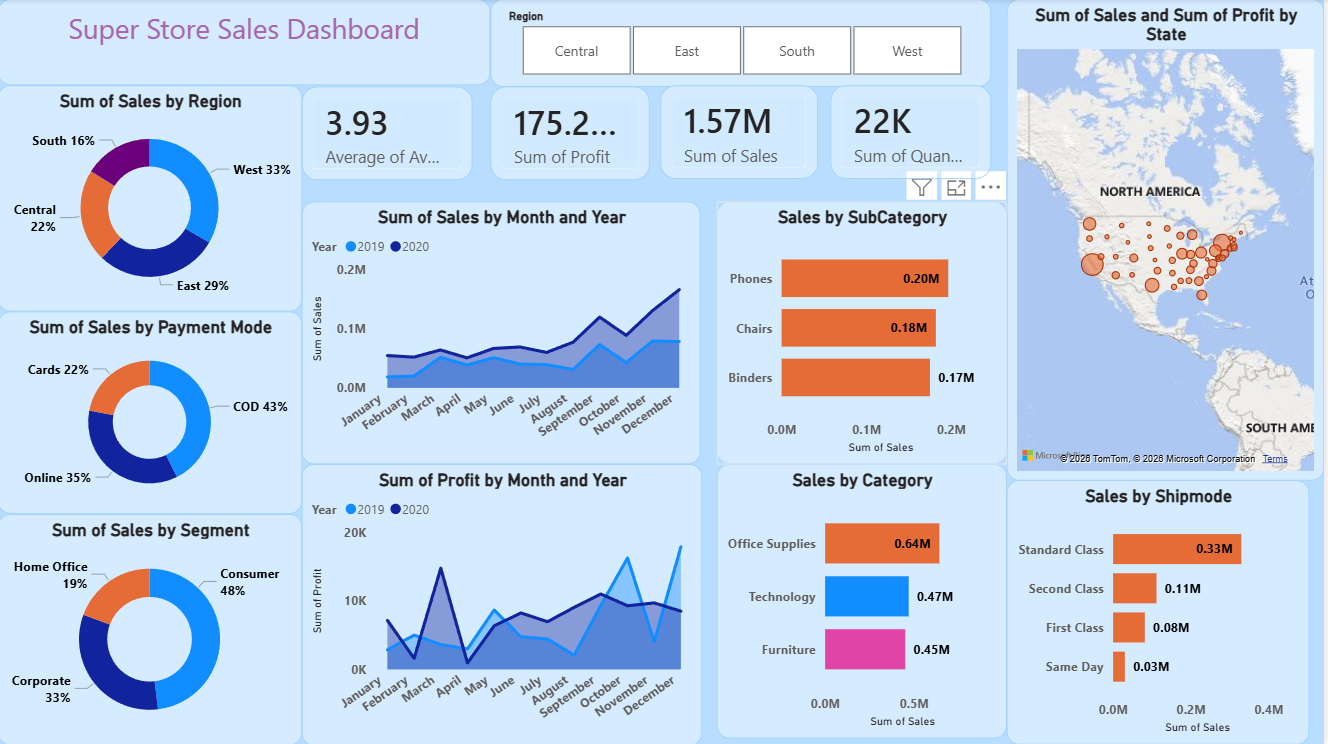

The page's visual inventory and layout, read from the dashboard file:
{"tool":"powerbi","page":{"name":"Page 1","canvas":[1280,720],"ordinal":0},"visuals":[{"type":"clusteredBarChart","title":"Sales by Category","fields":{"Category":["Sheet1.Category"],"Y":["Sum(Sheet1.Sales)"]},"box":[693.3,448.3,280,265],"z":0},{"type":"clusteredBarChart","title":"Sales by SubCategory","fields":{"Category":["Sheet1.Sub-Category"],"Y":["Sum(Sheet1.Sales)"]},"box":[693.3,195,280,253.3],"z":1000},{"type":"clusteredBarChart","title":"Sales by Shipmode","fields":{"Category":["Sheet1.Ship Mode"],"Y":["Sum(Sheet1.Sales)"]},"box":[973.3,465,291.7,255],"z":2000},{"type":"areaChart","fields":{"Category":["Sheet1.Order Date.Variation.Date Hierarchy.Month","Sheet1.Order Date.Variation.Date Hierarchy.Day"],"Series":["Sheet1.Order Date.Variation.Date Hierarchy.Year"],"Y":["Sum(Sheet1.Profit)"]},"box":[293.3,448.3,386.7,271.7],"z":3000},{"type":"areaChart","fields":{"Y":["Sum(Sheet1.Sales)"],"Category":["Sheet1.Order Date.Variation.Date Hierarchy.Month","Sheet1.Order Date.Variation.Date Hierarchy.Day"],"Series":["Sheet1.Order Date.Variation.Date Hierarchy.Year"]},"box":[293.3,195,385,253.3],"z":4000},{"type":"map","fields":{"Category":["Sheet1.State"],"Size":["Sum(Sheet1.Sales)"]},"box":[973.3,0,306.7,465],"z":5000},{"type":"donutChart","fields":{"Category":["Sheet1.Segment"],"Y":["Sum(Sheet1.Sales)"]},"box":[0,496.7,293.3,223.3],"z":6000},{"type":"donutChart","fields":{"Y":["Sum(Sheet1.Sales)"],"Category":["Sheet1.Payment Mode"]},"box":[0,301.7,293.3,195],"z":7000},{"type":"slicer","fields":{"Values":["Sheet1.Region"]},"box":[475,0,483.3,85],"z":8000},{"type":"textbox","box":[0,0,475,83.3],"z":9000},{"type":"cardVisual","title":"sales","fields":{"Data":["Sum(Sheet1.Sales)"]},"box":[640,83.3,151.7,90],"z":10000},{"type":"cardVisual","title":"sales","fields":{"Data":["Sum(Sheet1.Quantity)"]},"box":[803.3,83.3,155,90],"z":11000},{"type":"cardVisual","title":"sales","fields":{"Data":["Sum(Sheet1.Profit)"]},"box":[475,85,153.3,90],"z":12000},{"type":"cardVisual","title":"sales","fields":{"Data":["Avg(Sheet1.Avgdelivery)"]},"box":[293.3,85,165,90],"z":13000},{"type":"donutChart","fields":{"Y":["Sum(Sheet1.Sales)"],"Category":["Sheet1.Region"]},"box":[0,83.3,293.3,218.3],"z":14000}]}

Visuals, with their boxes in screenshot pixels (x1, y1, x2, y2), scaled from the page's 1280x720 canvas onto the 1328x744 screenshot:
"Sales by Category" clusteredBarChart: (719, 463, 1010, 737)
"Sales by SubCategory" clusteredBarChart: (719, 202, 1010, 463)
"Sales by Shipmode" clusteredBarChart: (1010, 481, 1312, 743)
areaChart - Sheet1.Order Date.Variation.Date Hierarchy.Month x Sheet1.Order Date.Variation.Date Hierarchy.Day: (304, 463, 706, 743)
areaChart - Sum(Sheet1.Sales) x Sheet1.Order Date.Variation.Date Hierarchy.Month: (304, 202, 704, 463)
map - Sheet1.State x Sum(Sheet1.Sales): (1010, 0, 1327, 481)
donutChart - Sheet1.Segment x Sum(Sheet1.Sales): (0, 513, 304, 743)
donutChart - Sum(Sheet1.Sales) x Sheet1.Payment Mode: (0, 312, 304, 513)
slicer - Sheet1.Region: (493, 0, 994, 88)
textbox: (0, 0, 493, 86)
"sales" cardVisual: (664, 86, 821, 179)
"sales" cardVisual: (833, 86, 994, 179)
"sales" cardVisual: (493, 88, 652, 181)
"sales" cardVisual: (304, 88, 475, 181)
donutChart - Sum(Sheet1.Sales) x Sheet1.Region: (0, 86, 304, 312)
